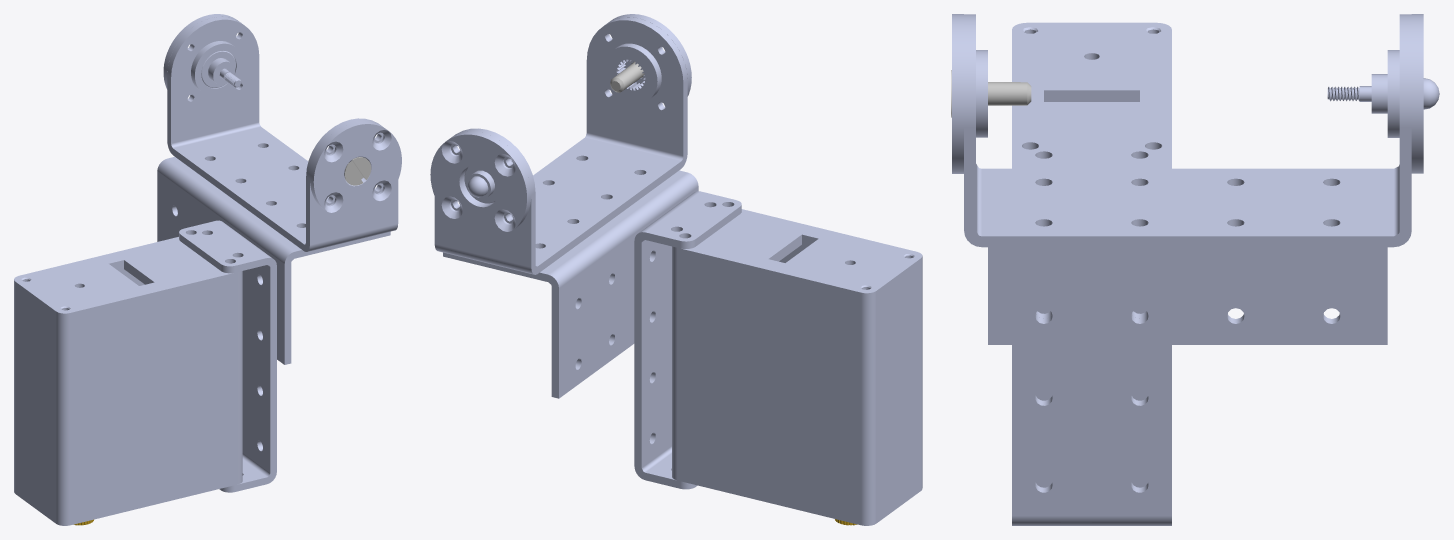
File: third_arm.obj
3 renders of one model, left to right at view 1: azimuth 30°, elevation 25°; view 2: azimuth 150°, elevation 25°; view 3: azimuth 270°, elevation 25°, orthographic. The views are drawn at different scales.
Size of the model in its own units: 0.0729 by 0.0801 by 0.0611.
